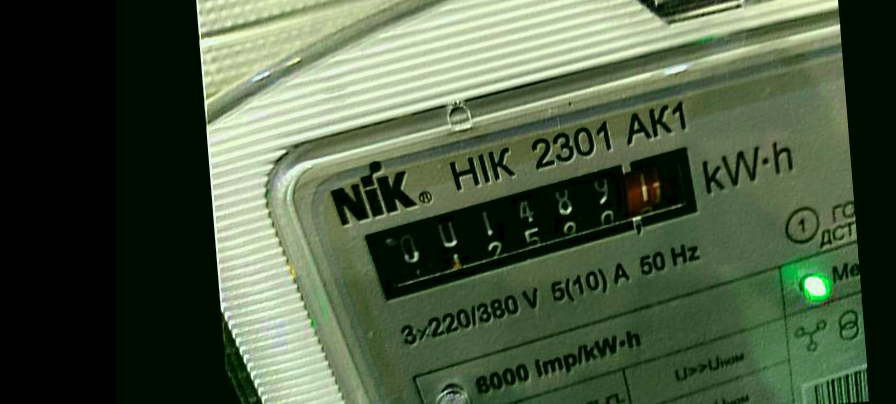0: (433, 213, 461, 251), (396, 230, 423, 267)
1: (633, 165, 654, 205), (476, 206, 499, 238)
4: (513, 193, 538, 225)
8: (553, 181, 576, 219)
9: (591, 172, 613, 206)
screen: (347, 134, 733, 314)
